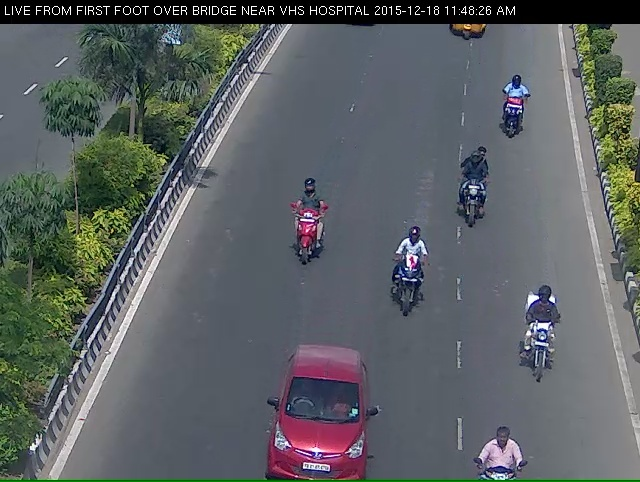Car: (264, 358, 371, 479), (441, 24, 493, 47)
Person: (517, 290, 565, 394), (278, 194, 319, 284), (390, 246, 426, 339), (453, 156, 487, 238), (490, 80, 528, 150)
